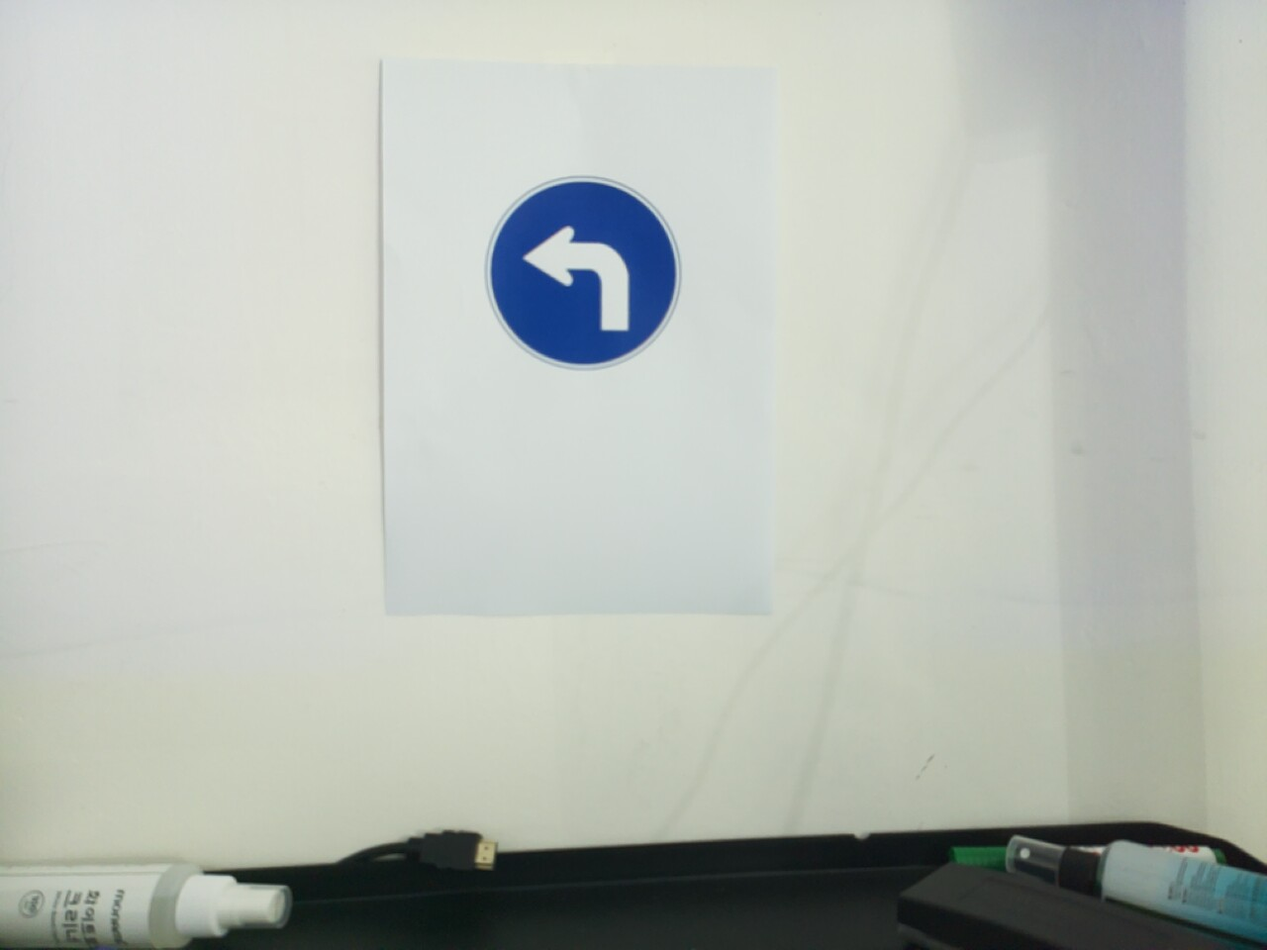left_turn: (484, 174, 683, 371)
